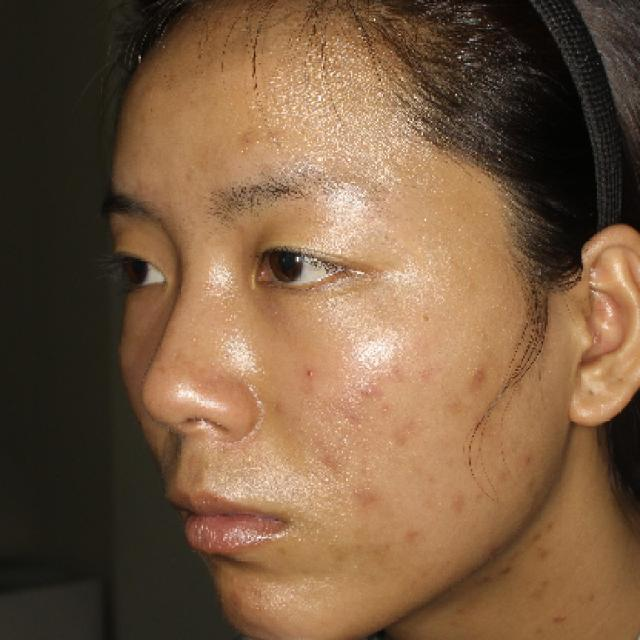Acne: (460, 360, 497, 395), (352, 483, 387, 515), (356, 380, 389, 405), (447, 490, 471, 519), (401, 524, 431, 546), (496, 465, 515, 487)
Blackheads: (295, 360, 323, 389), (233, 129, 265, 153), (520, 446, 539, 466)
